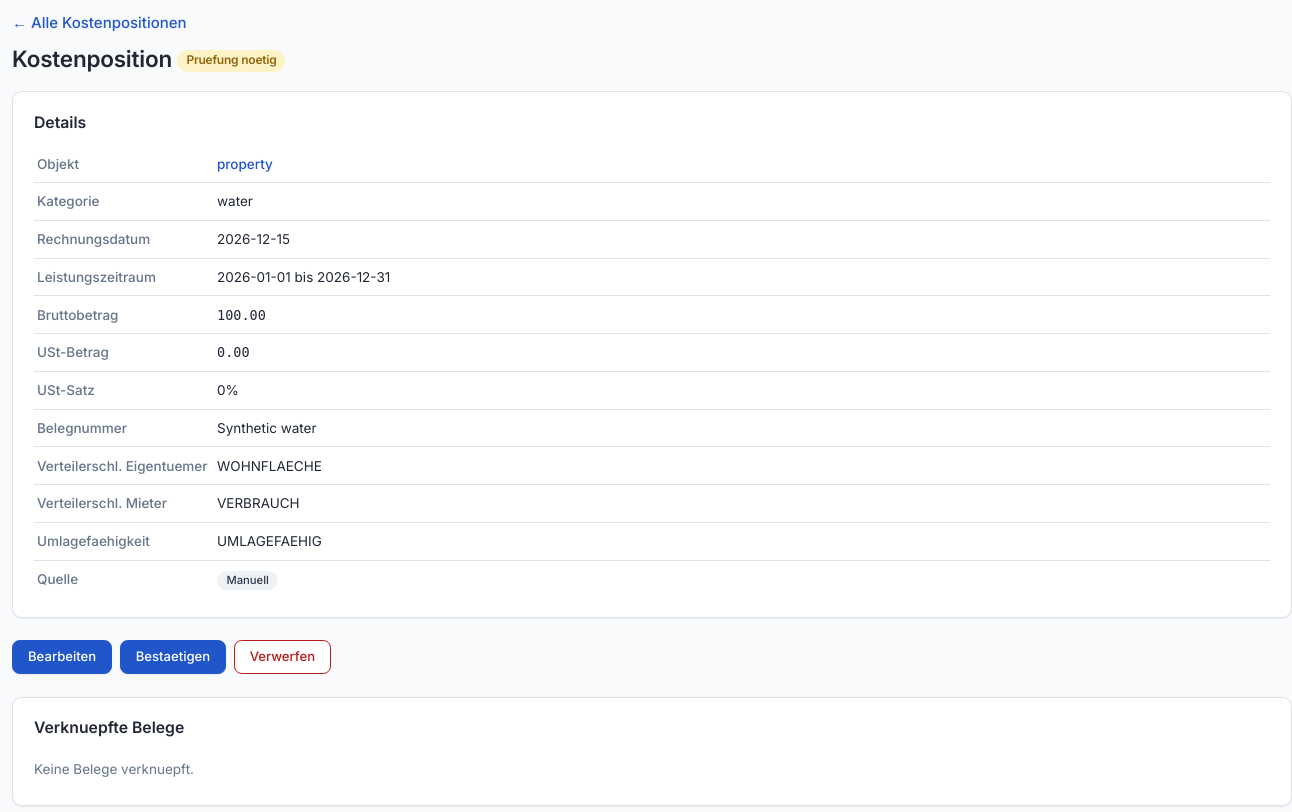
Scenario: exposes exact native labels and canonical preselection in edit
Click the button "Bearbeiten" at (62, 657), box [12,640,112,674]
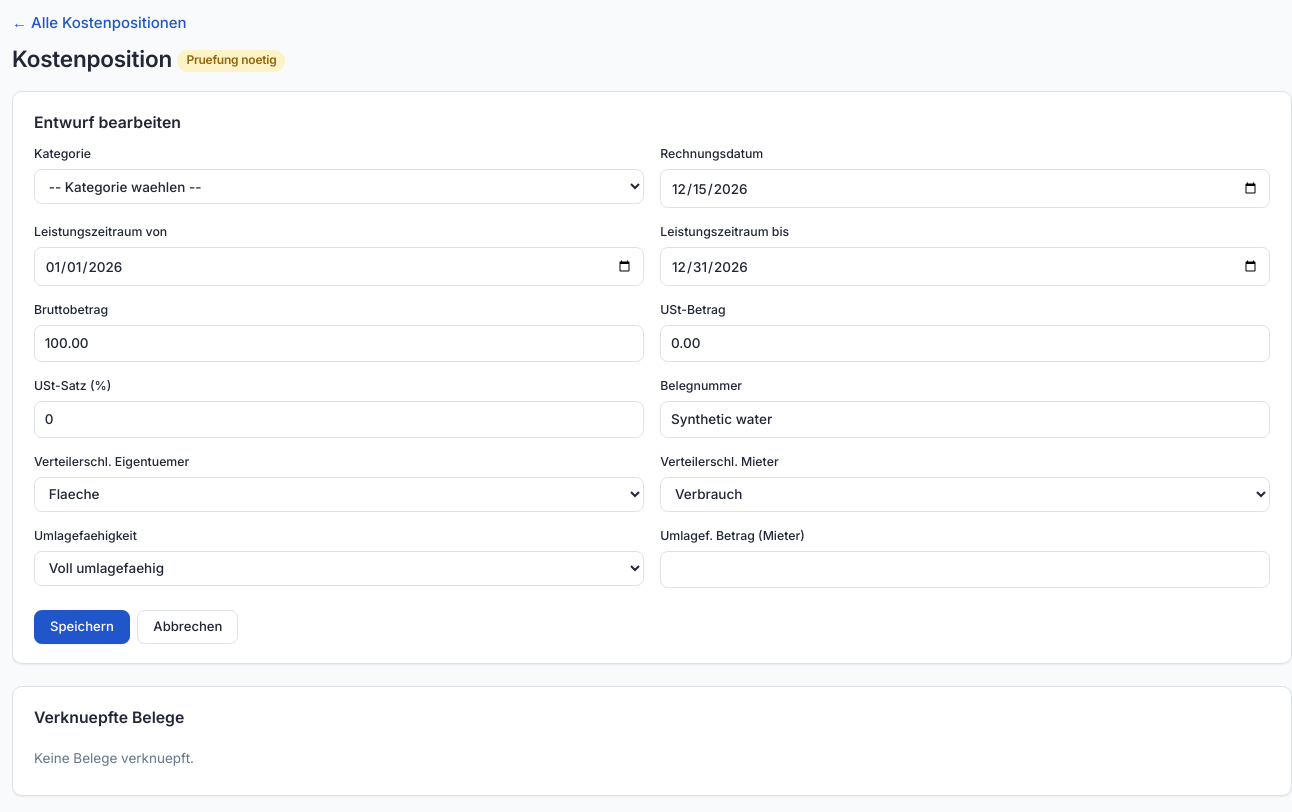
Now the dropdown labelled "Verteilerschl. Mieter" shows "Verbrauch", box [660,477,1270,512]
Now the dropdown labelled "Verteilerschl. Eigentuemer" shows "Flaeche", box [34,477,644,512]
Now the dropdown labelled "Umlagefaehigkeit" shows "Voll umlagefaehig", box [34,550,644,586]
